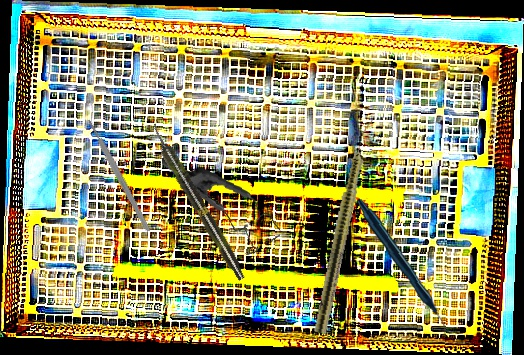Handpiece: (146, 121, 249, 283), (312, 115, 376, 336), (352, 198, 451, 337)
Scalpel Handle: (86, 118, 152, 233)
Speculum: (152, 154, 288, 259)
